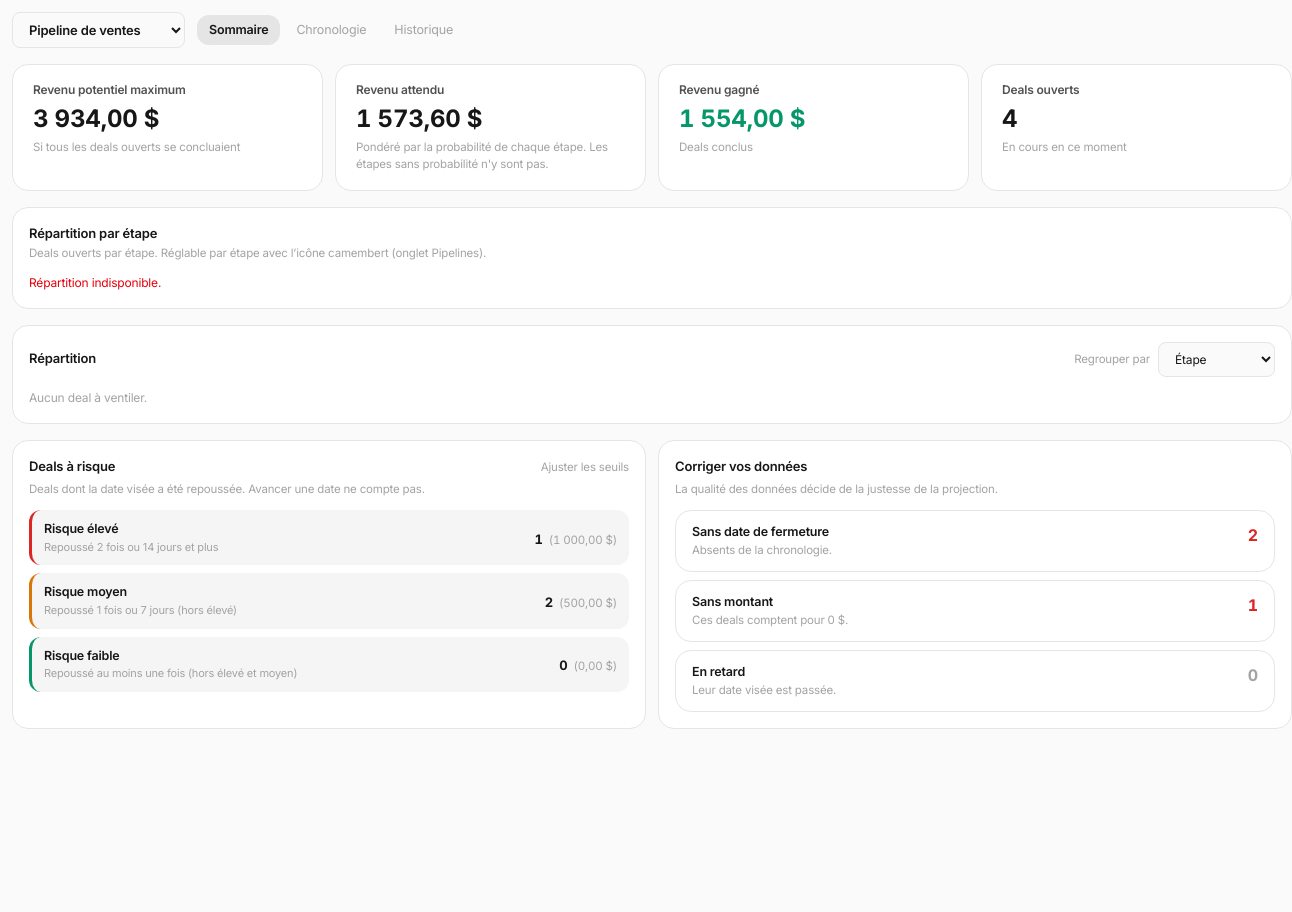
prévisions — chronologie › range les deals par mois, et montre la part déjà gagnée
Click the tab "Chronologie" at (331, 30), box [284,15,378,45]
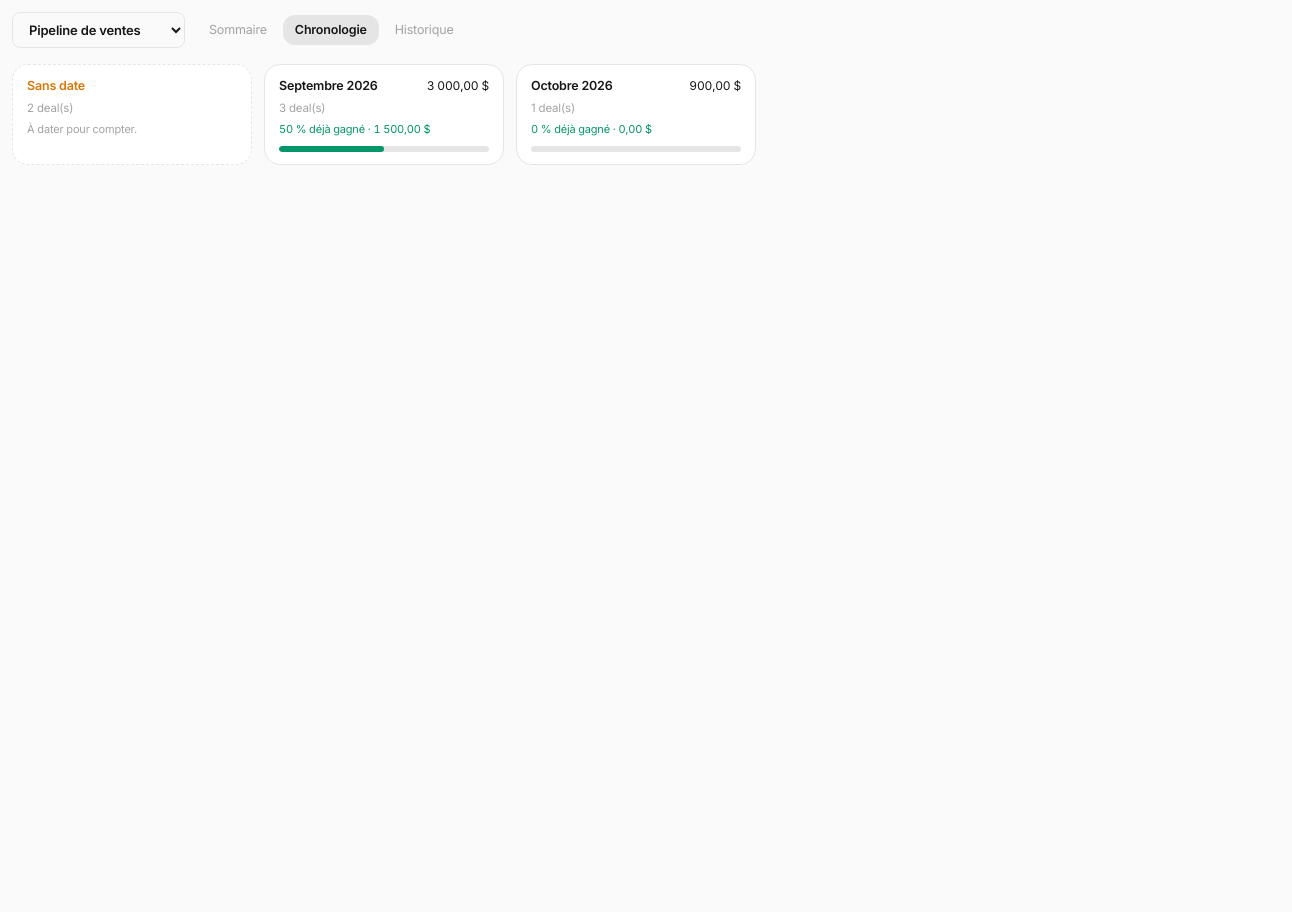
expect the text "septembre 2026" is shown: met, box [279,77,378,96]
expect the text "octobre 2026" is shown: met, box [531,77,612,96]
expect the text "50 % déjà gagné" is shown: met, box [279,122,430,136]
